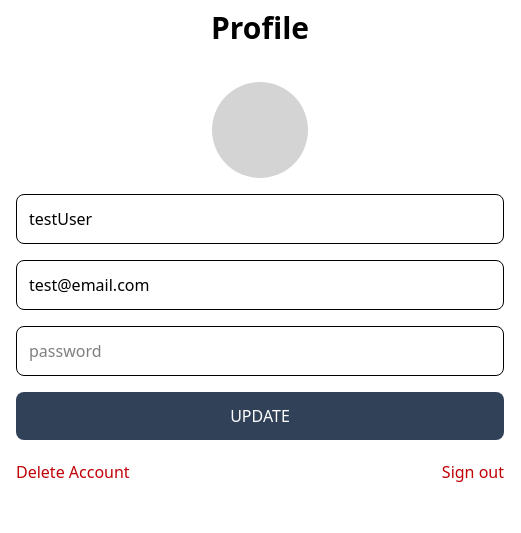
Test case: Profile Page › should Update fail and show the Error message
Note: Clear the existing value
Replace the text in the 1st field with placeholder "username" with "duplicateUsername" at (260, 219), box [16, 194, 504, 244]
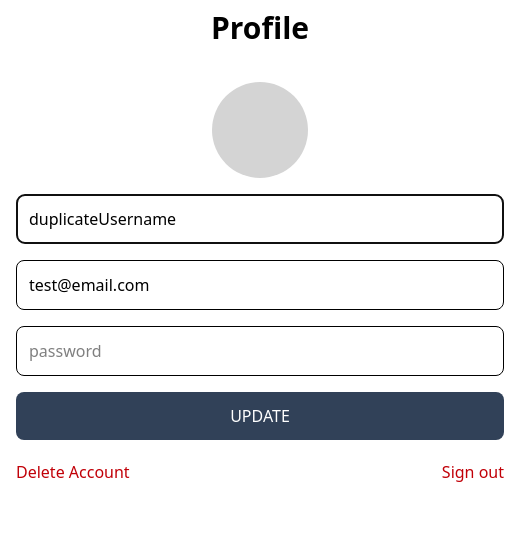
Note: Click Update button
Click the button "Update" at (260, 416), box [16, 392, 504, 440]
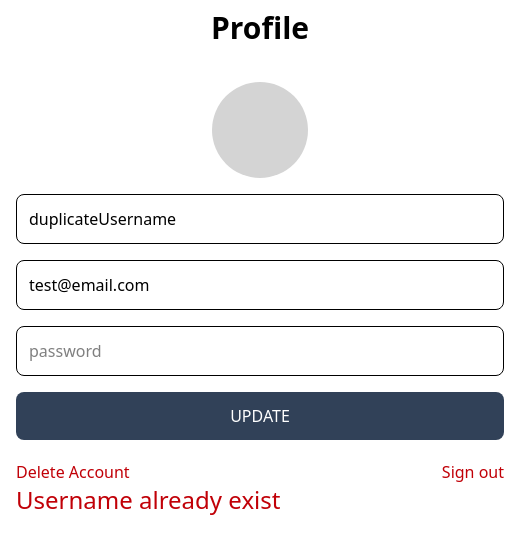
Now the text "Username already exist" is shown, box [16, 483, 280, 516]
